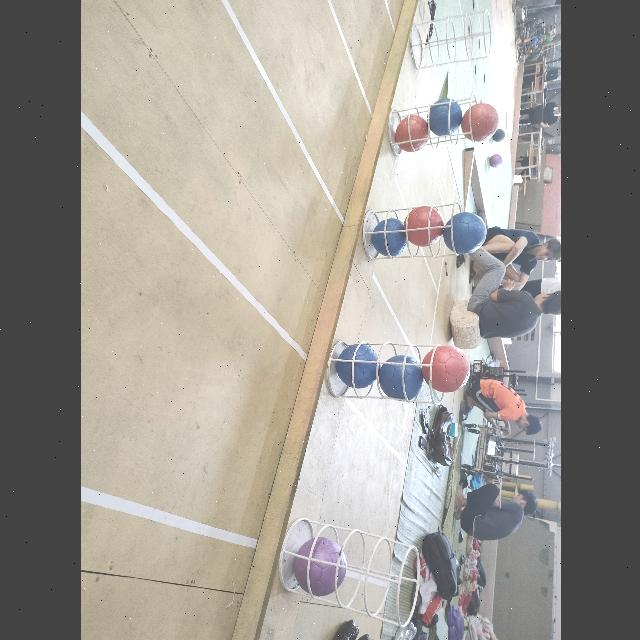B: (335, 344, 379, 388), (442, 212, 486, 255), (381, 356, 424, 399), (370, 220, 410, 258), (428, 102, 462, 136), (492, 130, 504, 142)
R: (422, 344, 470, 392), (405, 207, 443, 245), (459, 105, 498, 142), (392, 115, 428, 153)
